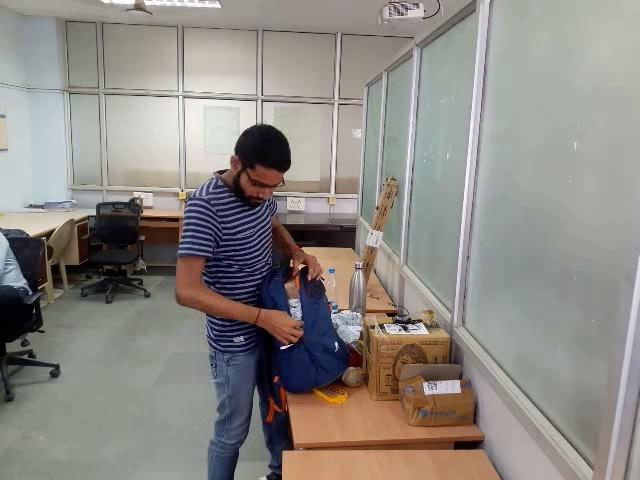shoplifting: (149, 247, 398, 371)
